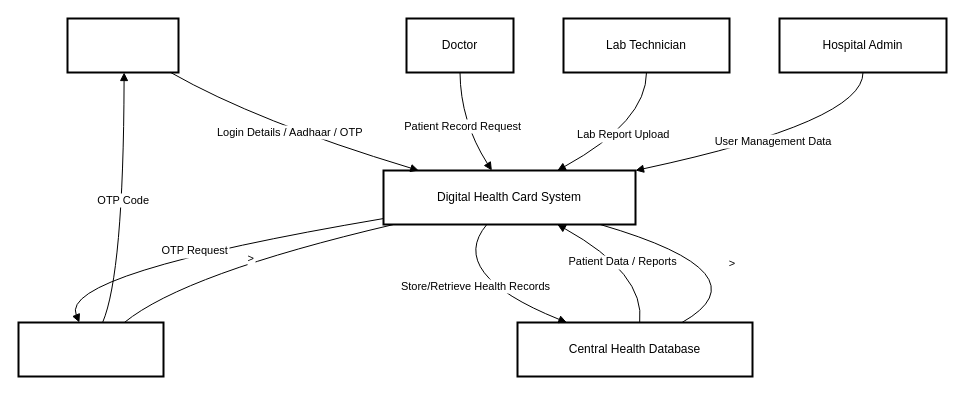
The diagram is 964 pixels wide and 394 high, and some of its shapes have lost their labels. The centre of each missing label's shape, as x and y in pixels:
OTP Service: point (90, 349)
Patient: point (122, 45)
